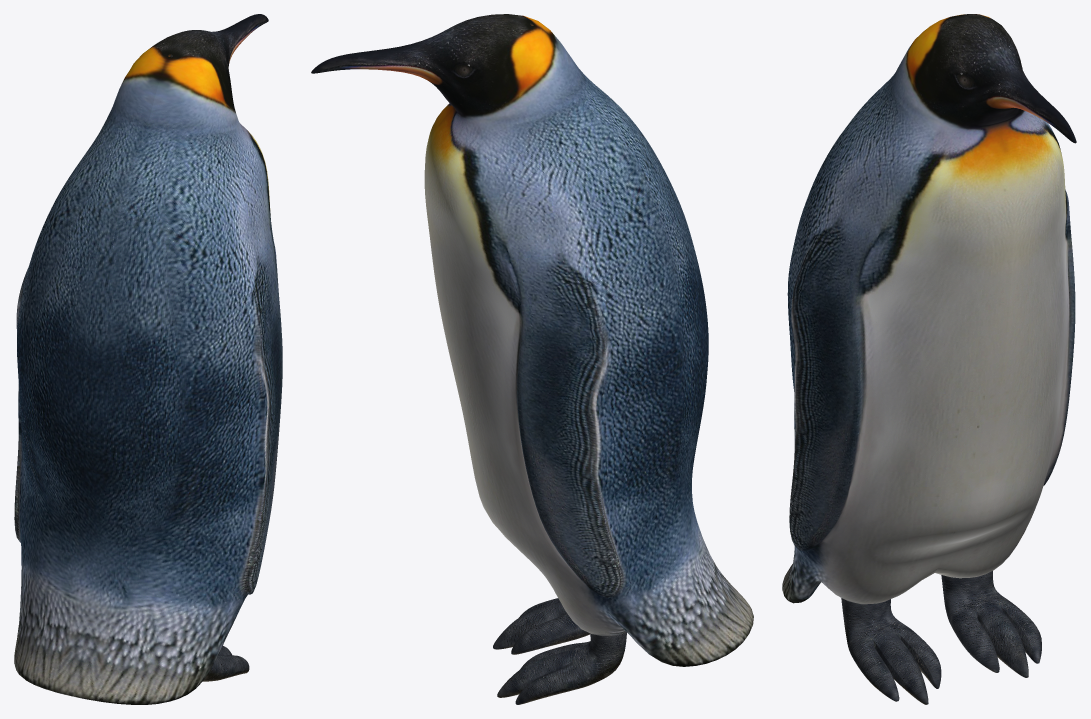
File: penguin.glb
3 views of the same model, side by side, from view 1: azimuth 30°, elevation 25°; view 2: azimuth 150°, elevation 25°; view 3: azimuth 270°, elevation 25° (orthographic). The views are drawn at different scales.
Parts seen in each view (by area): view 1: penguin; view 2: penguin; view 3: penguin.
Boxes of the visible parts, x1,y1,x2,y2 form: penguin: [14, 14, 282, 704]; penguin: [311, 14, 753, 704]; penguin: [782, 14, 1076, 704].
Size of the model in its own units: 2.33 by 4.25 by 1.69.
Materials: 1 (1 with a texture image).
